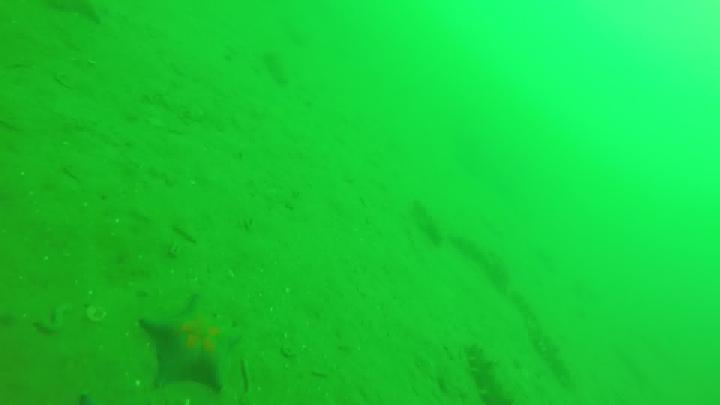holothurian: (461, 229, 580, 391), (470, 342, 517, 405)
scallop: (85, 304, 108, 325)
starfish: (137, 291, 246, 395)
